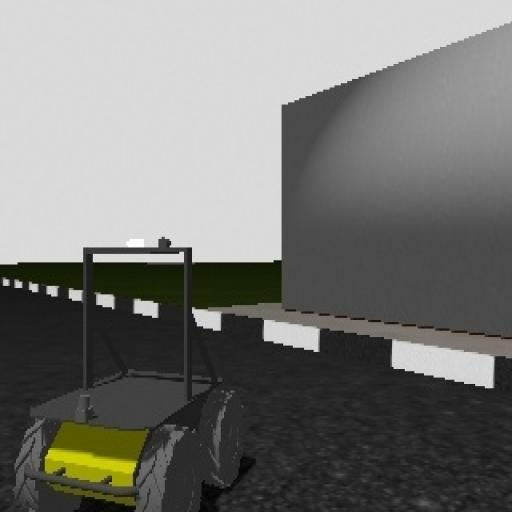huskya200: (6, 222, 258, 510)
